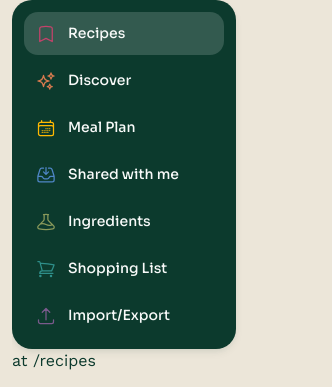
Test: a nav item navigates and tells the drawer to close
The image size is (332, 387).
Click the button "Meal Plan" at (124, 128), box [24, 106, 224, 149]
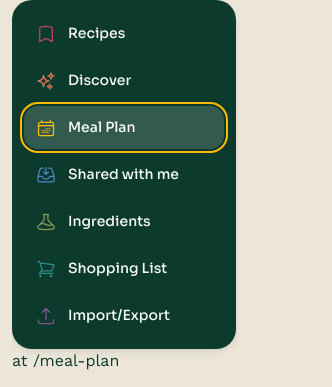
Expected: the text "at /meal-plan" is shown, [12, 351, 119, 370]
